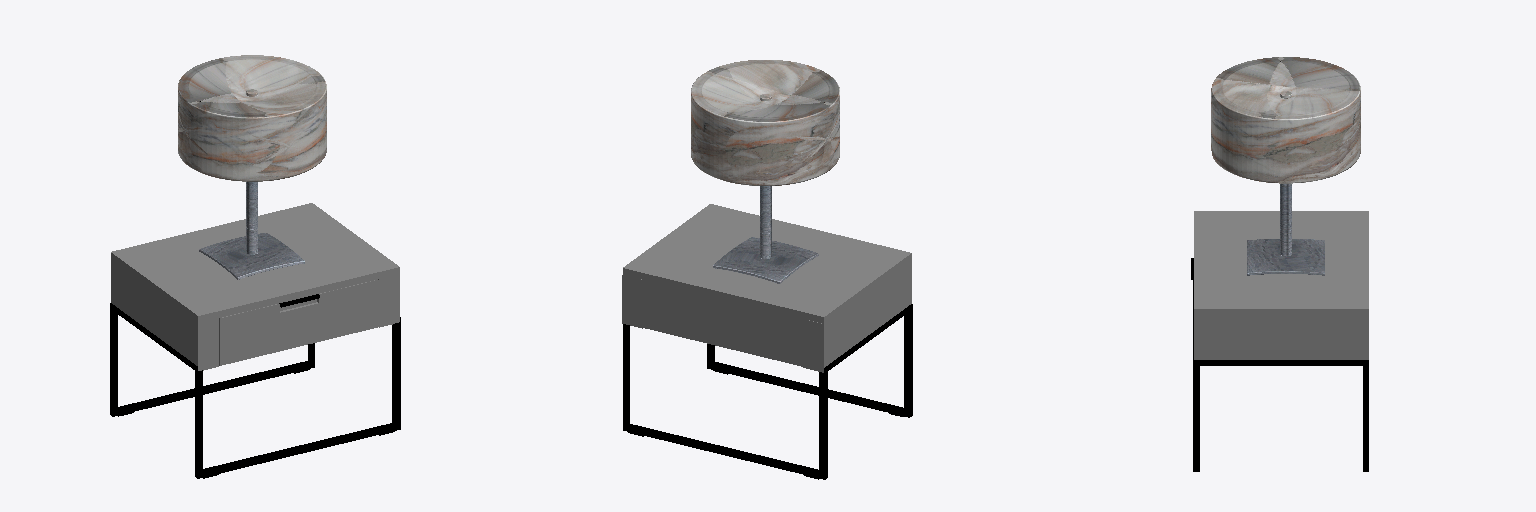
3 renders of one model, left to right at view 1: azimuth 30°, elevation 25°; view 2: azimuth 150°, elevation 25°; view 3: azimuth 270°, elevation 25°, orthographic.
Parts seen in each view (by area): view 1: node_id17, node_id26, node_id29, node_id21, node_id27, node_id11, node_id25, node_id16; view 2: node_id17, node_id26, node_id28, node_id21, node_id27, node_id11, node_id25, node_id16; view 3: node_id17, node_id26, node_id25, node_id11, node_id21, node_id16.
Boxes of the visible parts, box(x1,y1,x2,y2) form: node_id17: box(178, 55, 326, 181); node_id26: box(111, 203, 399, 322); node_id29: box(219, 280, 378, 365); node_id21: box(110, 303, 400, 478); node_id27: box(111, 260, 218, 370); node_id11: box(199, 233, 304, 279); node_id25: box(378, 274, 399, 327); node_id16: box(246, 182, 257, 228); node_id17: box(691, 60, 839, 185); node_id26: box(623, 204, 911, 323); node_id28: box(643, 280, 802, 366); node_id21: box(623, 304, 912, 479); node_id27: box(803, 260, 911, 372); node_id11: box(713, 237, 818, 283); node_id25: box(622, 275, 642, 328); node_id16: box(760, 186, 771, 233); node_id17: box(1211, 57, 1360, 183); node_id26: box(1194, 211, 1368, 315); node_id25: box(1194, 316, 1368, 359); node_id11: box(1247, 239, 1324, 275); node_id21: box(1193, 280, 1368, 471); node_id16: box(1280, 184, 1291, 230).
Size of the model in its own units: 3.25 by 5.12 by 2.48.
25 materials, 13 textured.